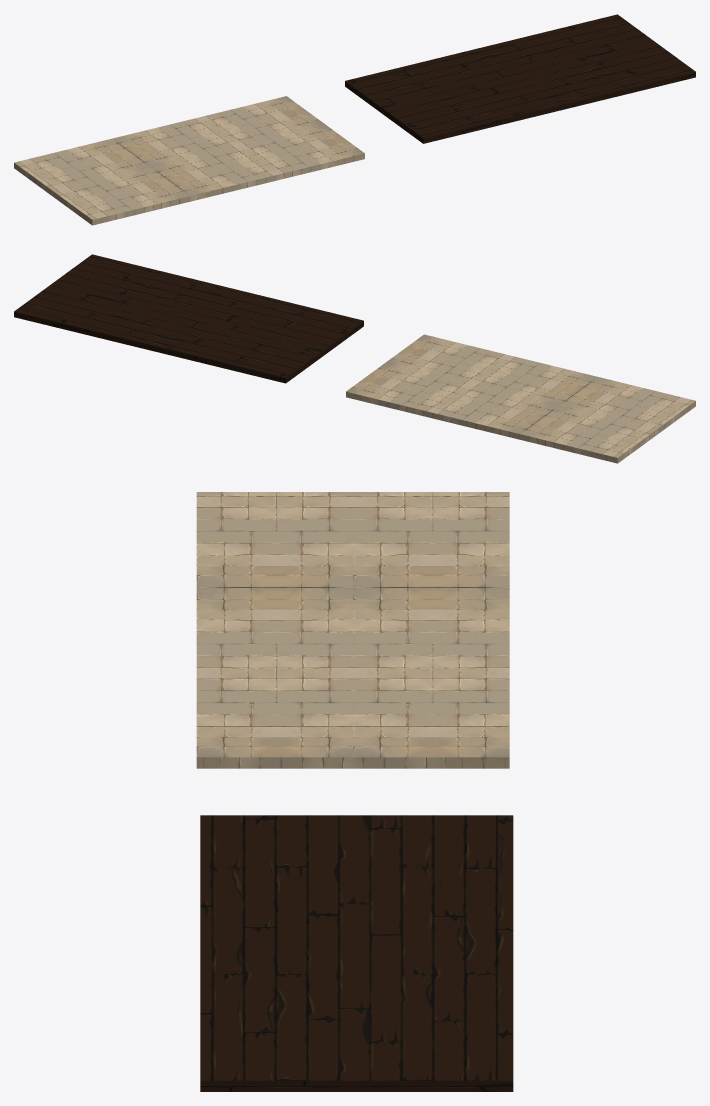
File: Lantai.fbx
3 views of the same model, one above another, from view 1: azimuth 30°, elevation 25°; view 2: azimuth 150°, elevation 25°; view 3: azimuth 270°, elevation 25° (orthographic). The views are drawn at different scales.
Parts seen in each view (by area): view 1: Lantai_Batu, Lantai_Kayu; view 2: Lantai_Batu, Lantai_Kayu; view 3: Lantai_Batu, Lantai_Kayu.
Part boxes in pixels (left/top/right/bottom): Lantai_Batu: left=14, top=96, right=364, bottom=225; Lantai_Kayu: left=345, top=14, right=695, bottom=143; Lantai_Batu: left=346, top=334, right=695, bottom=463; Lantai_Kayu: left=14, top=254, right=363, bottom=383; Lantai_Batu: left=196, top=492, right=509, bottom=768; Lantai_Kayu: left=200, top=815, right=513, bottom=1091.
Size of the model in its own units: 2227 by 19.98 by 506.
1 material, 1 textured.
